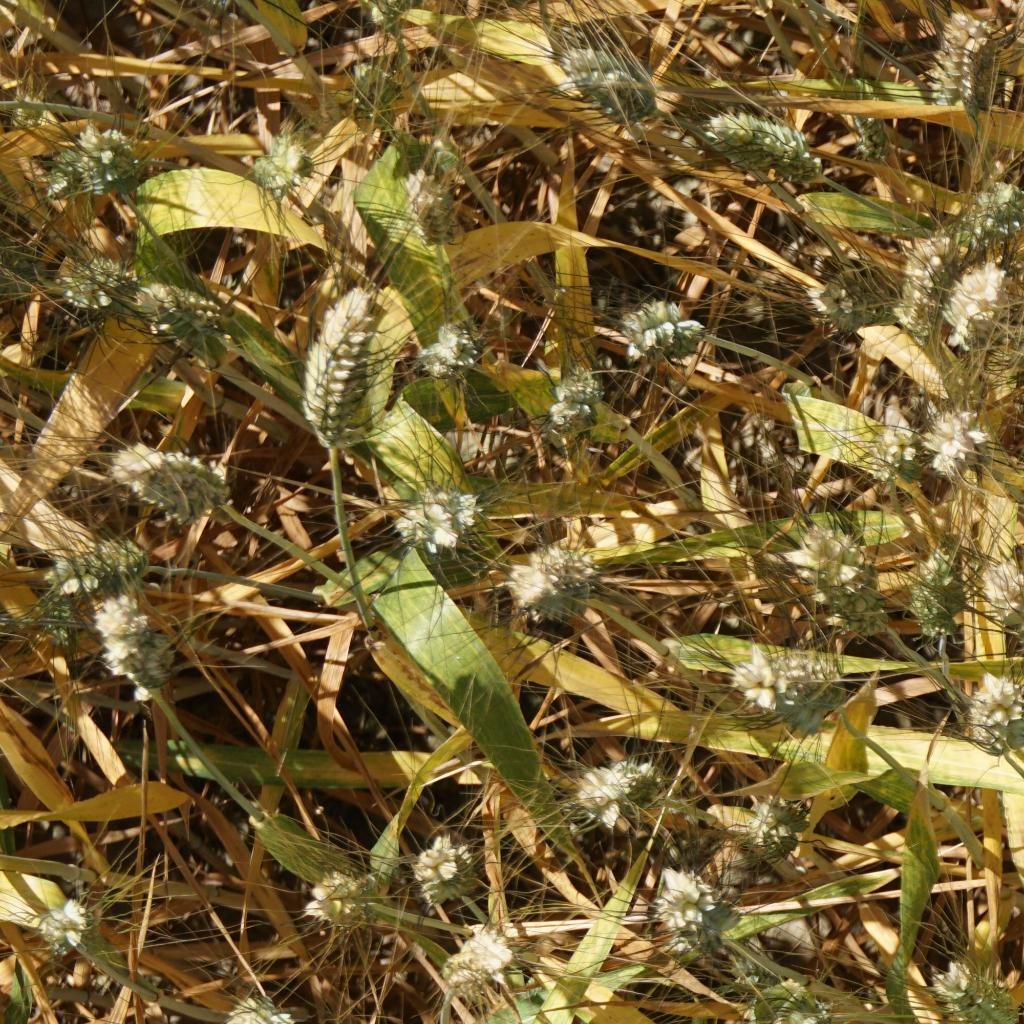0-0: (294, 287, 384, 448), (804, 520, 890, 632), (113, 436, 231, 513), (648, 864, 756, 944), (739, 651, 850, 725), (617, 287, 712, 369), (927, 1, 995, 115), (103, 592, 176, 692), (709, 108, 823, 172), (399, 467, 486, 548), (541, 355, 611, 449), (572, 752, 678, 812), (553, 47, 662, 105), (54, 527, 164, 584), (905, 551, 971, 645), (490, 539, 592, 598), (940, 263, 1004, 351), (894, 224, 944, 331), (411, 833, 486, 904), (140, 275, 216, 342), (925, 395, 991, 472), (964, 669, 1024, 753), (960, 172, 1024, 248), (444, 917, 516, 982), (745, 795, 809, 867), (746, 965, 824, 1024), (981, 560, 1024, 665), (399, 162, 456, 240), (947, 963, 1019, 1024), (69, 126, 142, 186), (246, 137, 320, 196), (817, 257, 877, 325), (312, 860, 375, 924), (860, 420, 924, 479), (840, 80, 890, 152), (338, 55, 403, 108), (418, 316, 476, 372), (49, 894, 100, 948), (68, 248, 113, 308), (226, 1001, 298, 1024)
